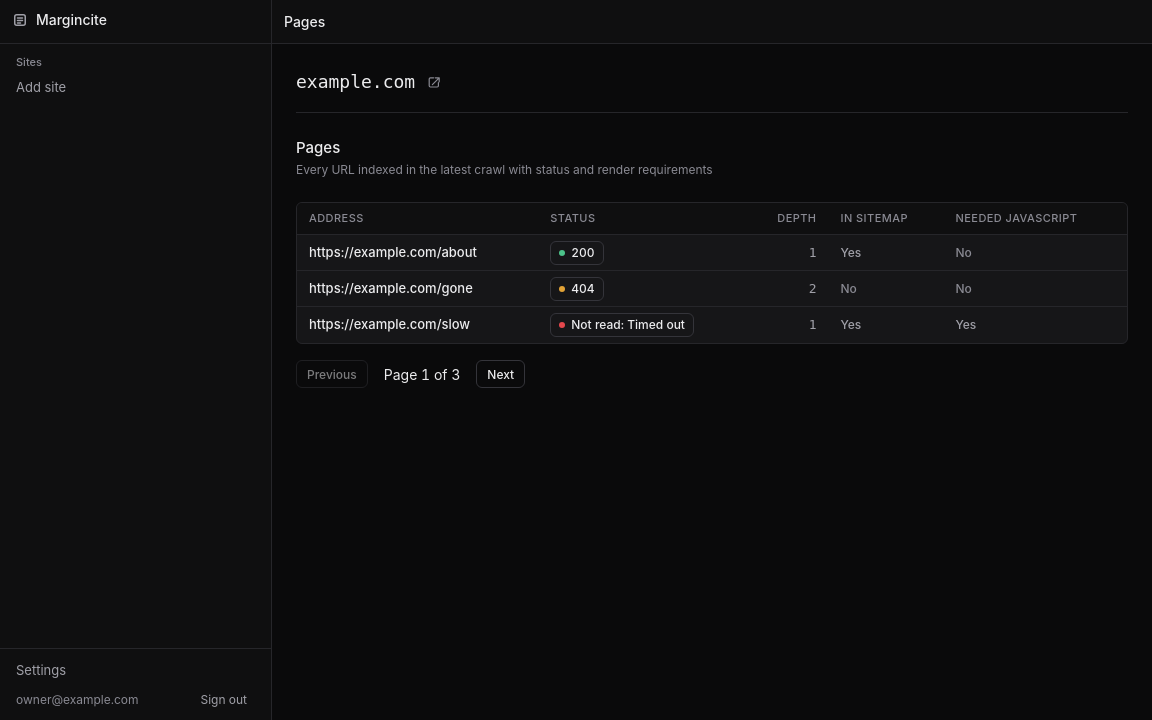
pages_are_listed_with_status_and_paging
Expected: the row "https://example.com/about 200 1 Yes No" is shown, [297,235,1127,271]
Expected: the row "https://example.com/gone 404 2 No No" is shown, [297,271,1127,307]
Click the button with aria-label "Next page". click: {"x": 501, "y": 374}
box: [476,360,525,388]
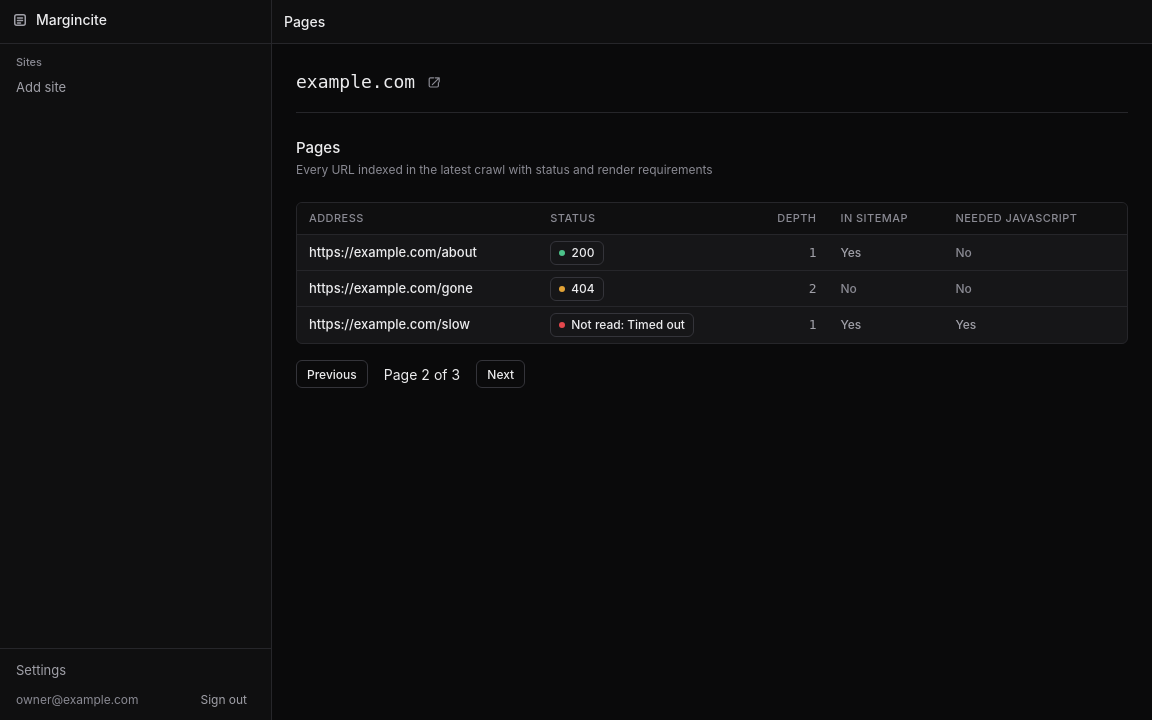
Result: the text "Page 2 of 3" is shown at [384,364,460,384]
